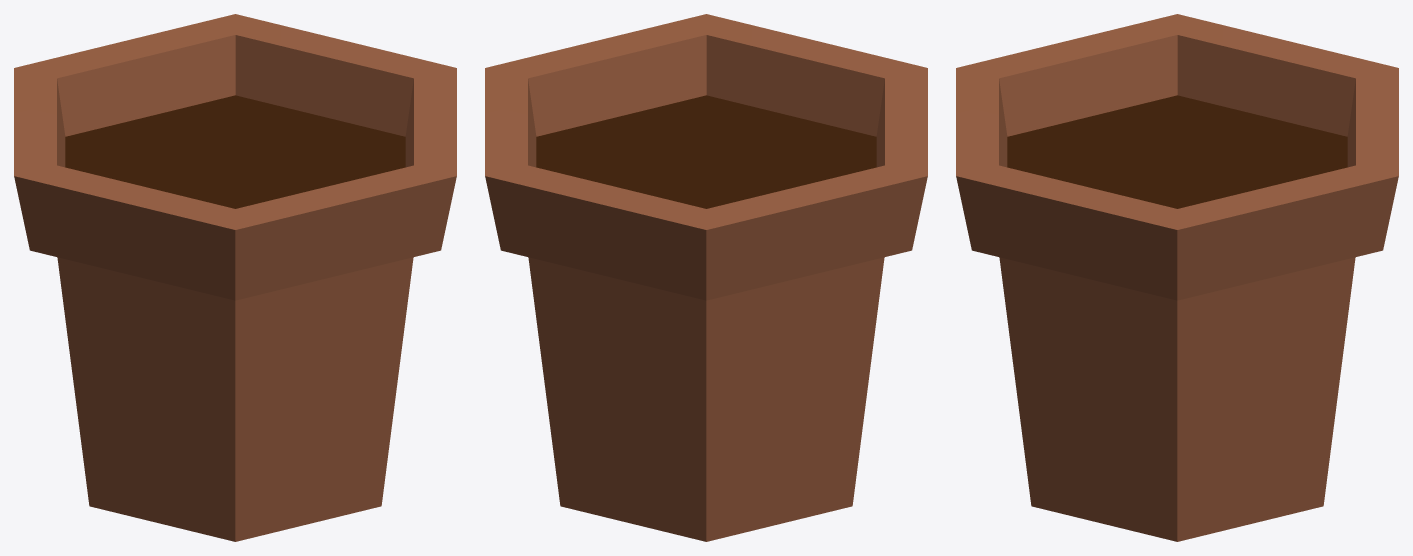
Rendered from flowerpot.fbx.
The picture shows the model from 3 angles, left to right: view 1: azimuth 30°, elevation 25°; view 2: azimuth 150°, elevation 25°; view 3: azimuth 270°, elevation 25°; orthographic projection.
Visible parts, largest first — view 1: pot, soil; view 2: pot, soil; view 3: pot, soil.
Boxes of the visible parts, box(x1,y1,x2,y2) form: pot: box(14, 14, 456, 541); soil: box(65, 95, 405, 208); pot: box(485, 14, 927, 541); soil: box(536, 95, 876, 208); pot: box(956, 14, 1398, 541); soil: box(1007, 95, 1347, 208).
Size of the model in its own units: 3.67 by 2.76 by 3.18.
